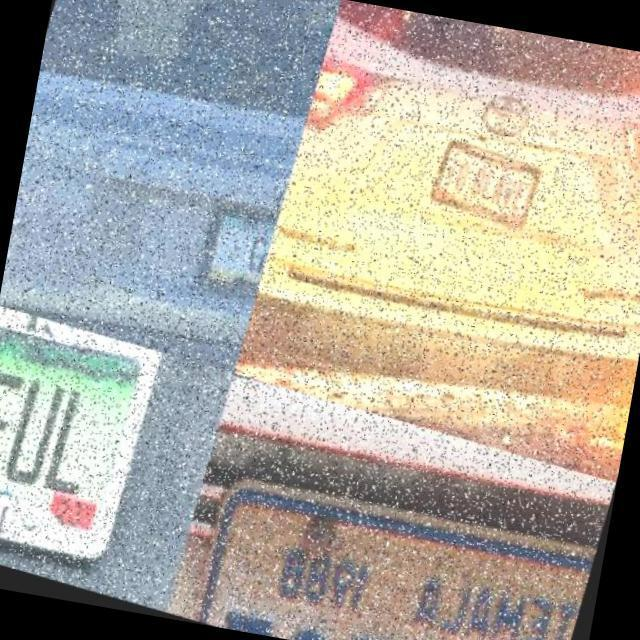License Plate: (0, 305, 161, 567), (206, 560, 570, 640), (426, 138, 541, 236), (194, 204, 277, 296)
